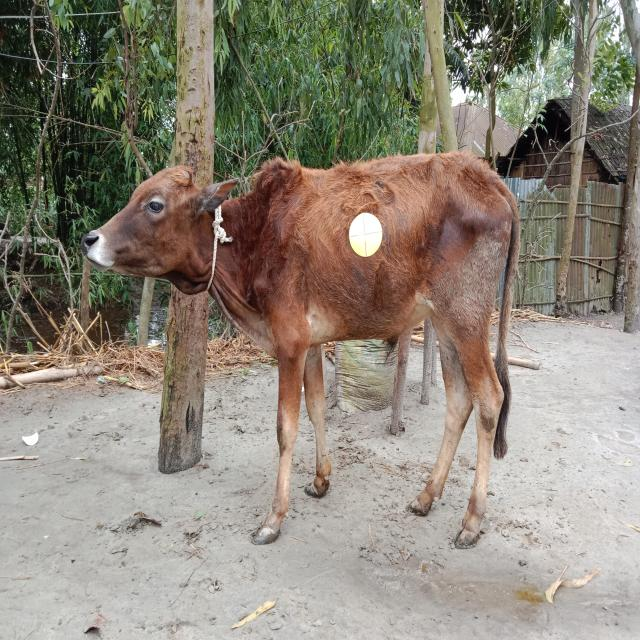badan_sapi: (258, 152, 511, 344)
sapi: (74, 146, 548, 558)
